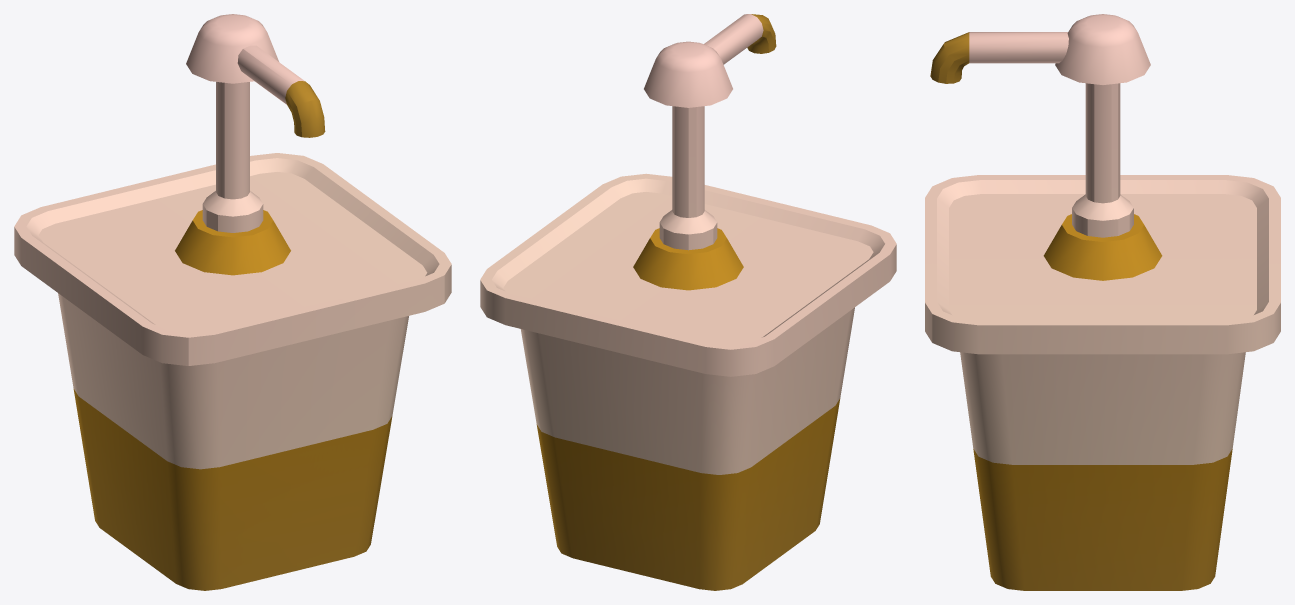
Rendered from MustardTube.fbx.
3 renders of one model, left to right at view 1: azimuth 30°, elevation 25°; view 2: azimuth 150°, elevation 25°; view 3: azimuth 270°, elevation 25°, orthographic. The views are drawn at different scales.
Visible parts, largest first — view 1: Mustard; view 2: Mustard; view 3: Mustard.
Boxes of the visible parts, x1=… form: Mustard: x1=14, y1=14, x2=451, y2=590; Mustard: x1=480, y1=14, x2=896, y2=590; Mustard: x1=925, y1=14, x2=1280, y2=590.
Size of the model in its own units: 0.4914 by 0.7933 by 0.4914.
